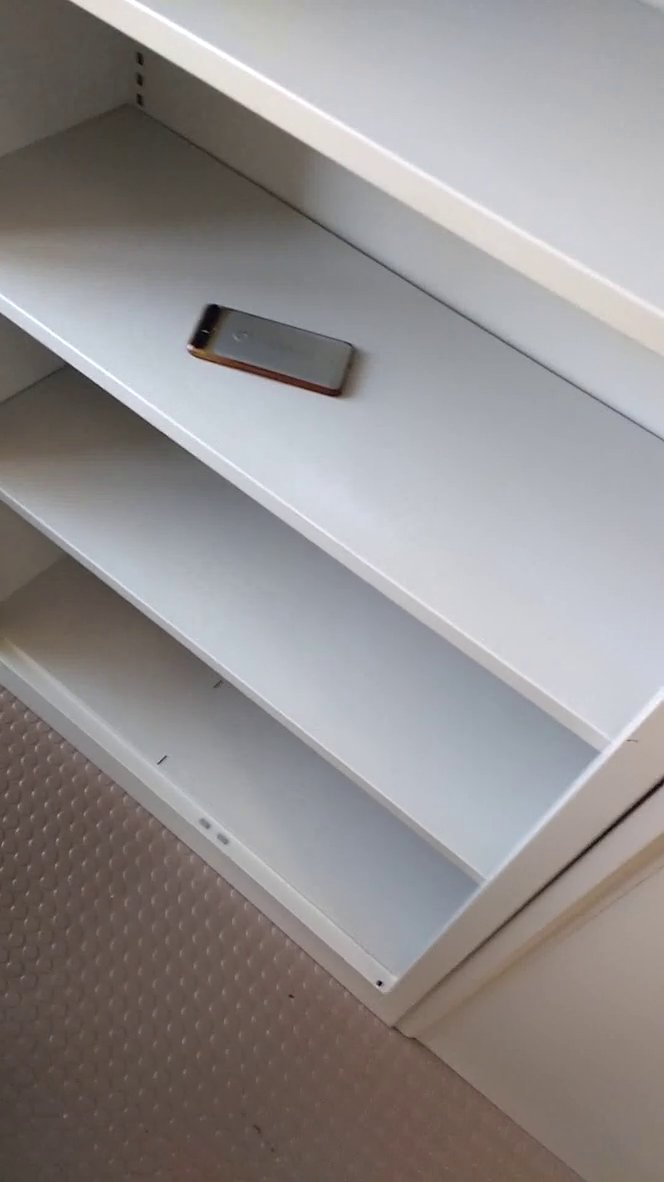phone: (180, 292, 373, 411)
